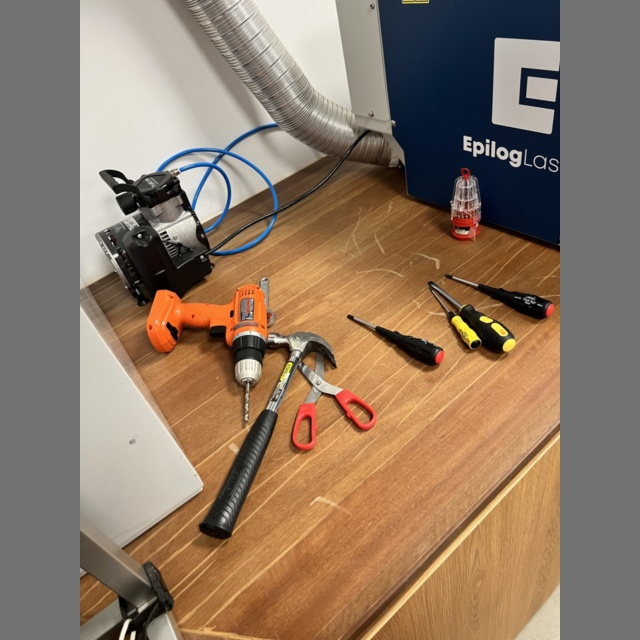drill: (147, 282, 272, 422)
scissor: (292, 360, 377, 450)
screwdriver: (347, 315, 444, 365), (446, 275, 554, 318), (429, 282, 482, 349), (459, 304, 515, 352)
